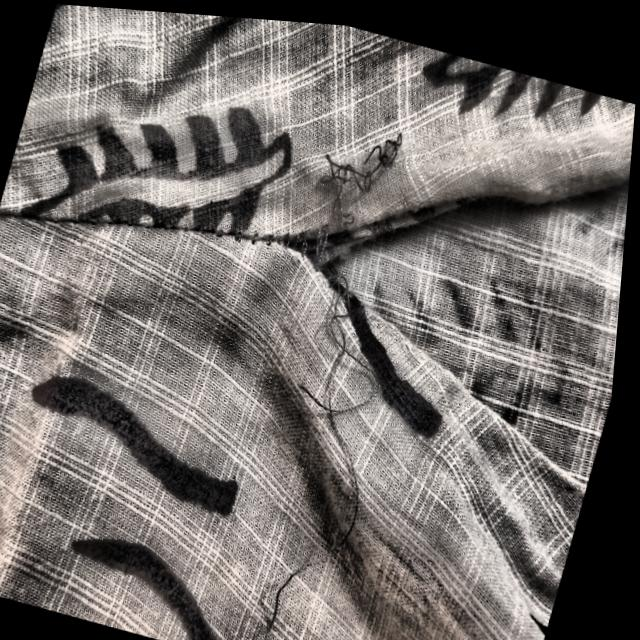Stitch: (176, 34, 511, 640)
